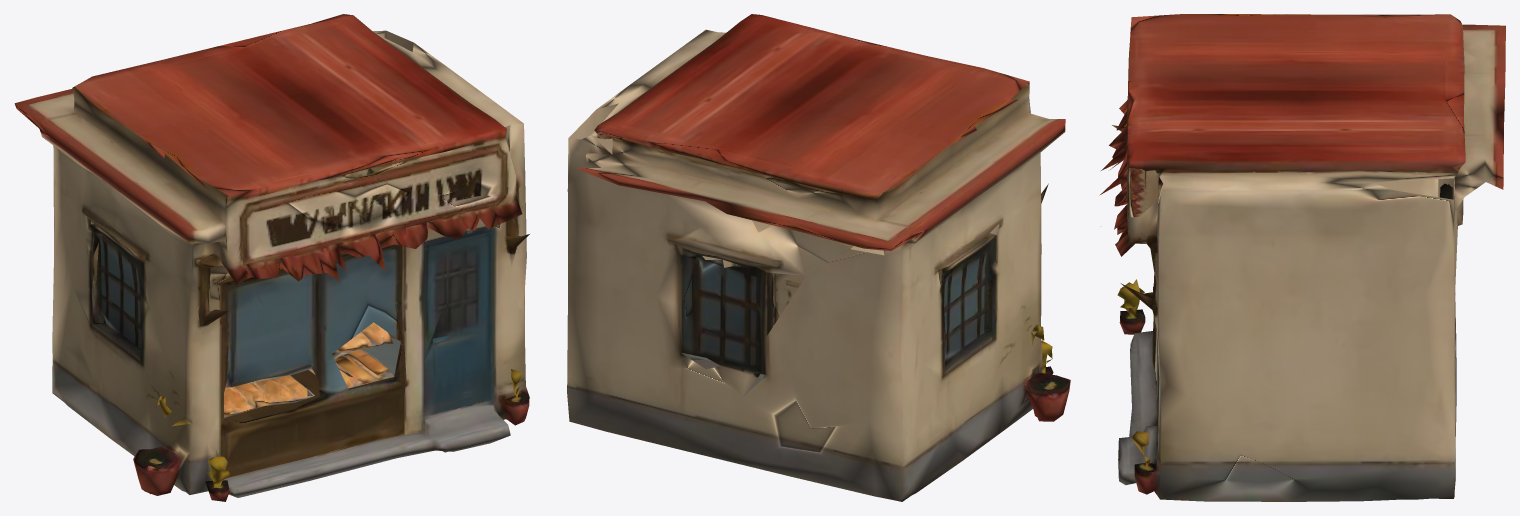
The model's file is panaderia.glb.
The picture shows the model from 3 angles, left to right: view 1: azimuth 30°, elevation 25°; view 2: azimuth 150°, elevation 25°; view 3: azimuth 270°, elevation 25°; orthographic projection. The views are drawn at different scales.
Visible parts, largest first — view 1: geometry_0; view 2: geometry_0; view 3: geometry_0.
Part boxes in pixels (x1,y1,x2,y2): geometry_0: [14, 14, 529, 501]; geometry_0: [567, 14, 1070, 501]; geometry_0: [1099, 14, 1505, 501].
Size of the model in its own units: 1.28 by 0.9999 by 1.13.
Materials: 1 (1 with a texture image).
